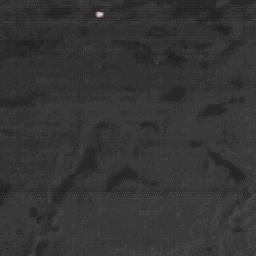Target: (95, 10, 104, 18)
